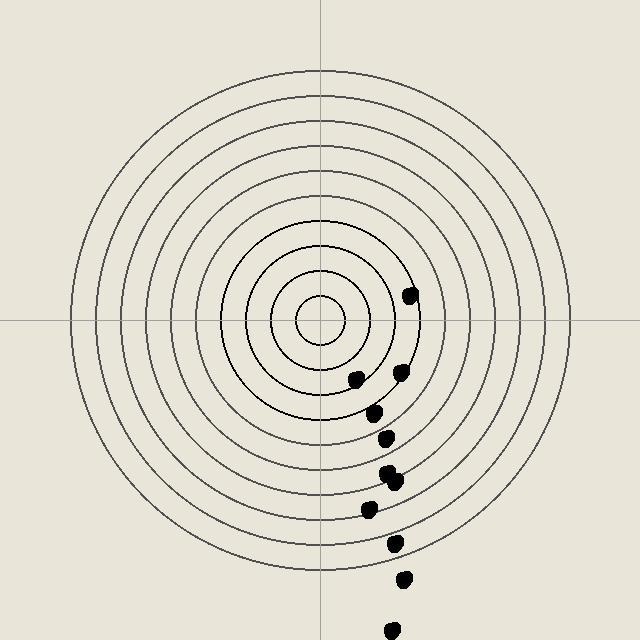vertical_scatter: (376, 463, 396, 483), (363, 403, 383, 423), (358, 499, 378, 519), (384, 471, 404, 491), (381, 620, 401, 640), (393, 569, 413, 589), (375, 428, 395, 448), (399, 285, 419, 305), (384, 533, 404, 553), (390, 362, 410, 382), (345, 369, 365, 389)
